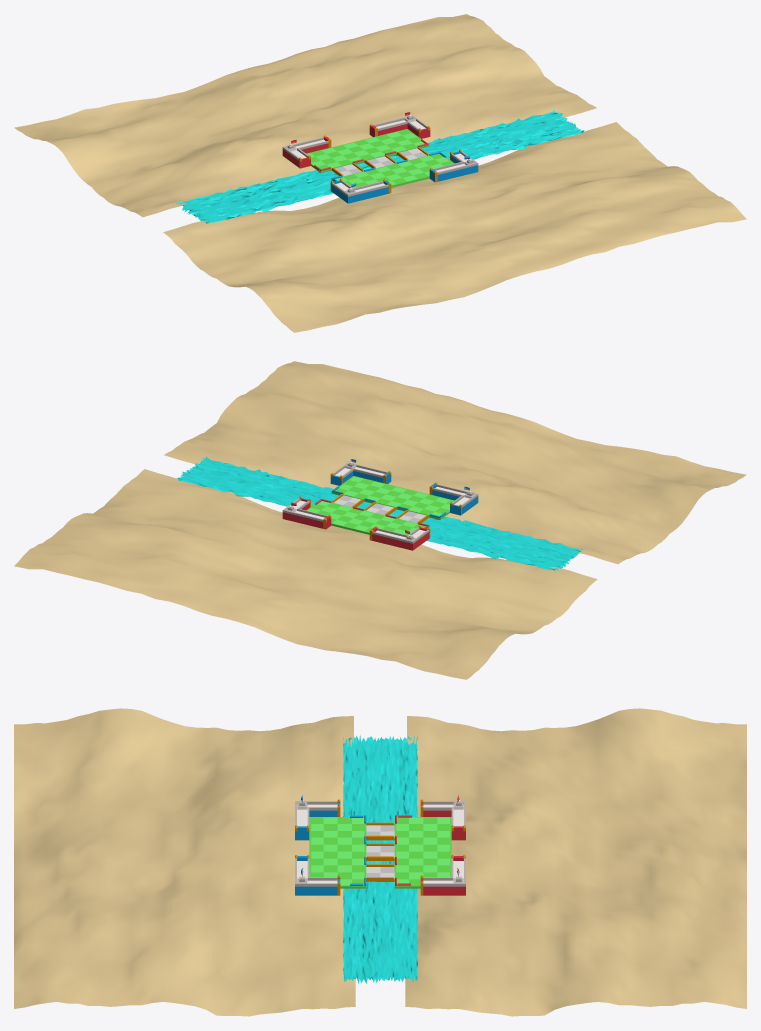
The model's file is TC_Board.fbx.
3 views of the same model, one above another, from view 1: azimuth 30°, elevation 25°; view 2: azimuth 150°, elevation 25°; view 3: azimuth 270°, elevation 25° (orthographic). The views are drawn at different scales.
Parts seen in each view (by area): view 1: Board; view 2: Board; view 3: Board.
Part boxes in pixels (x1,y1,x2,y2): Board: [14, 14, 746, 332]; Board: [14, 361, 746, 679]; Board: [14, 708, 746, 1016].
Size of the model in its own units: 10296 by 675 by 9626.
